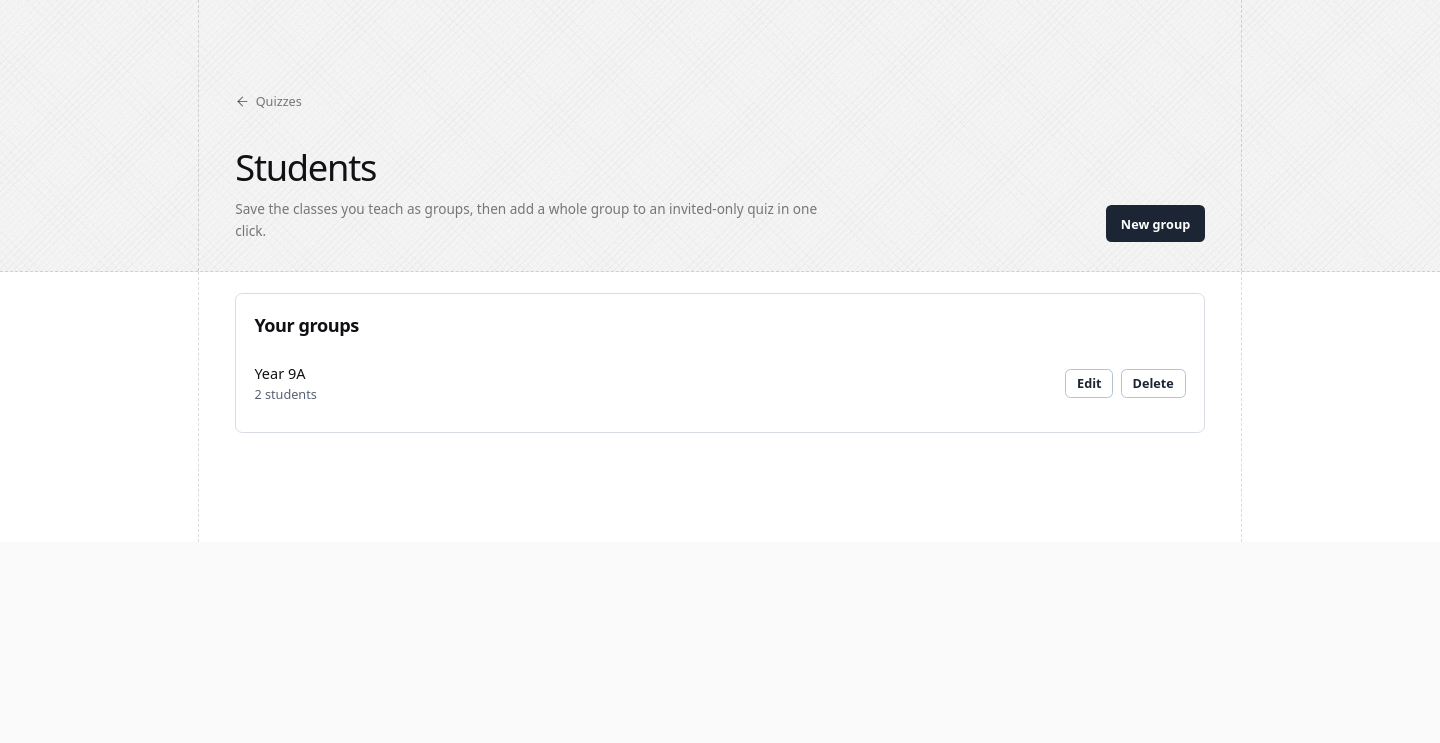
Scenario: GroupsPage › shows the server message when the name is taken
Click the button "New group". click: x=1156, y=224
box: [1106, 206, 1205, 242]
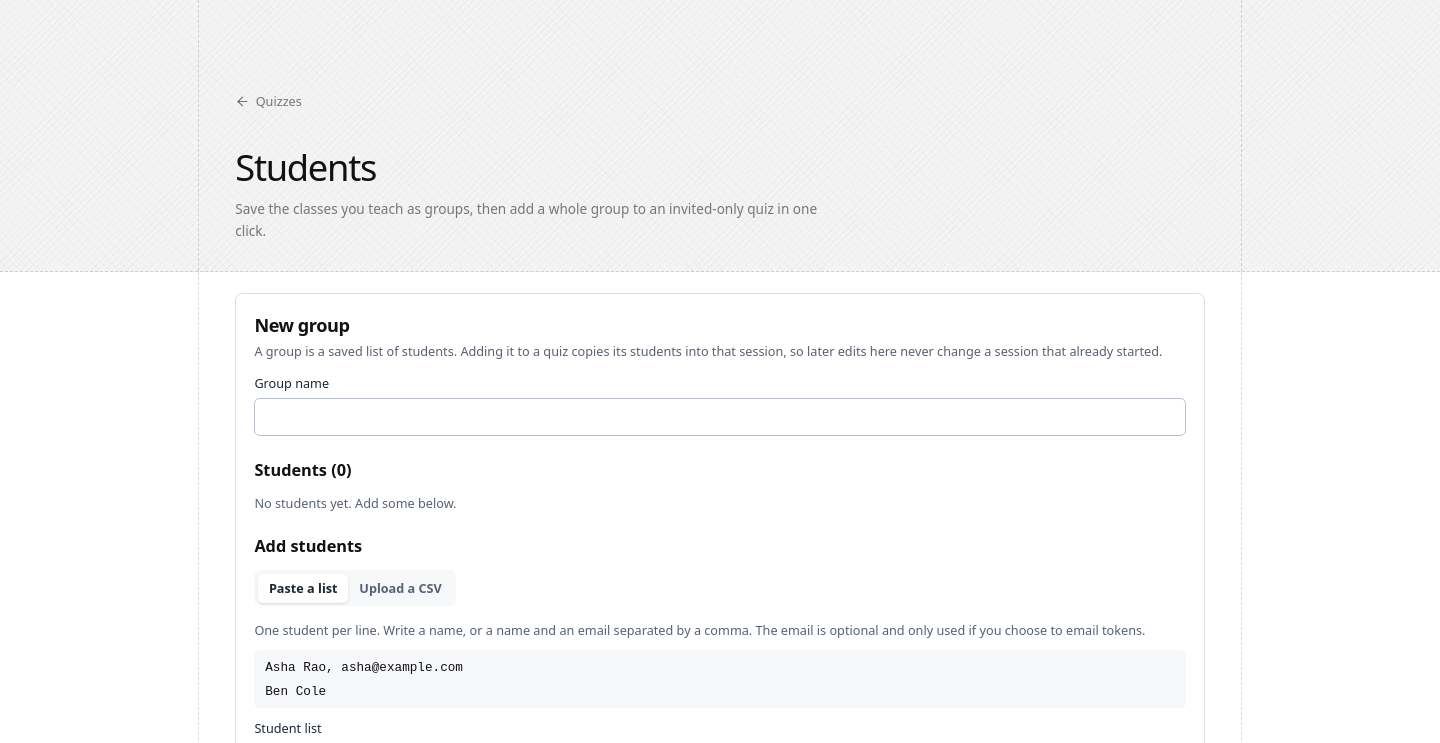
Type "Year 9A" into the field labelled "Group name". click: x=720, y=417
box: [254, 398, 1186, 436]
(page scrolled)
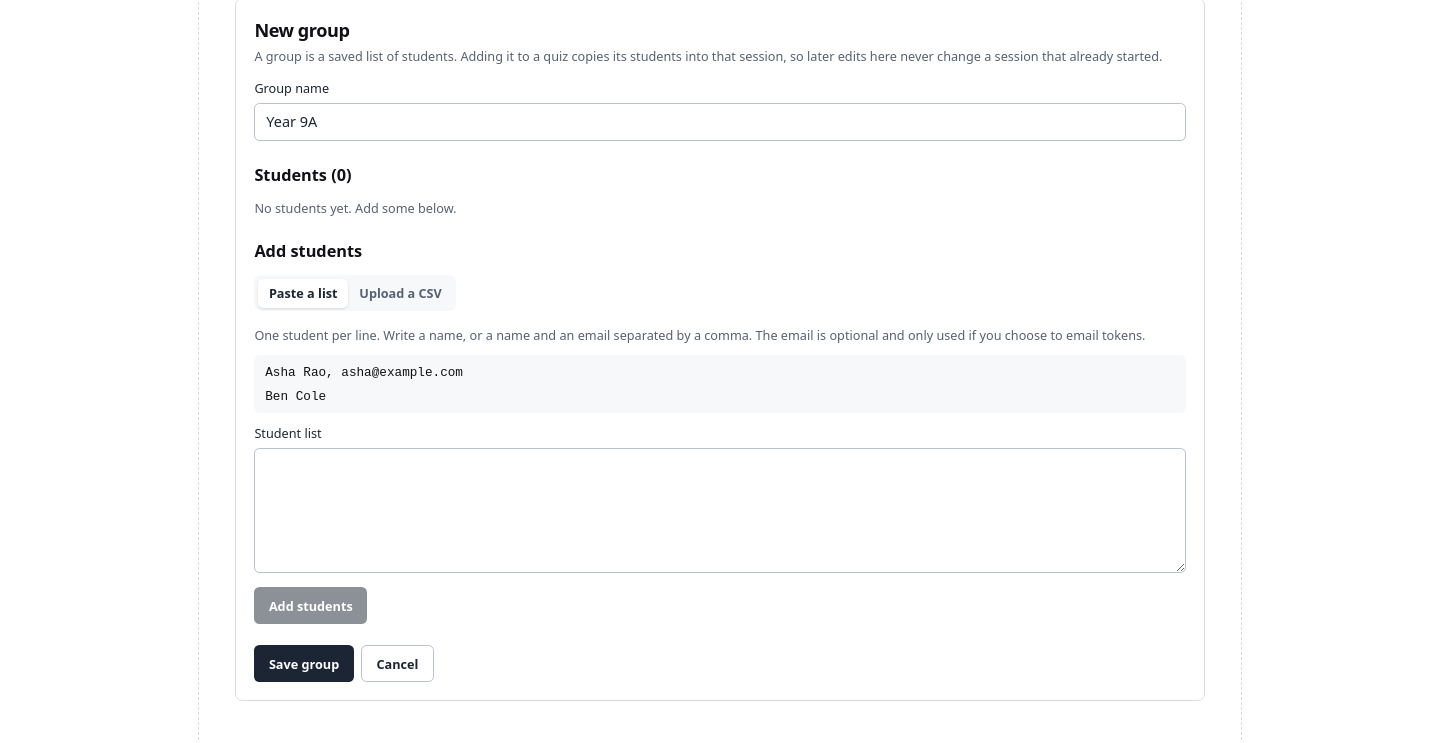
Click the button "Save group". click: x=304, y=664
box: [254, 646, 354, 682]
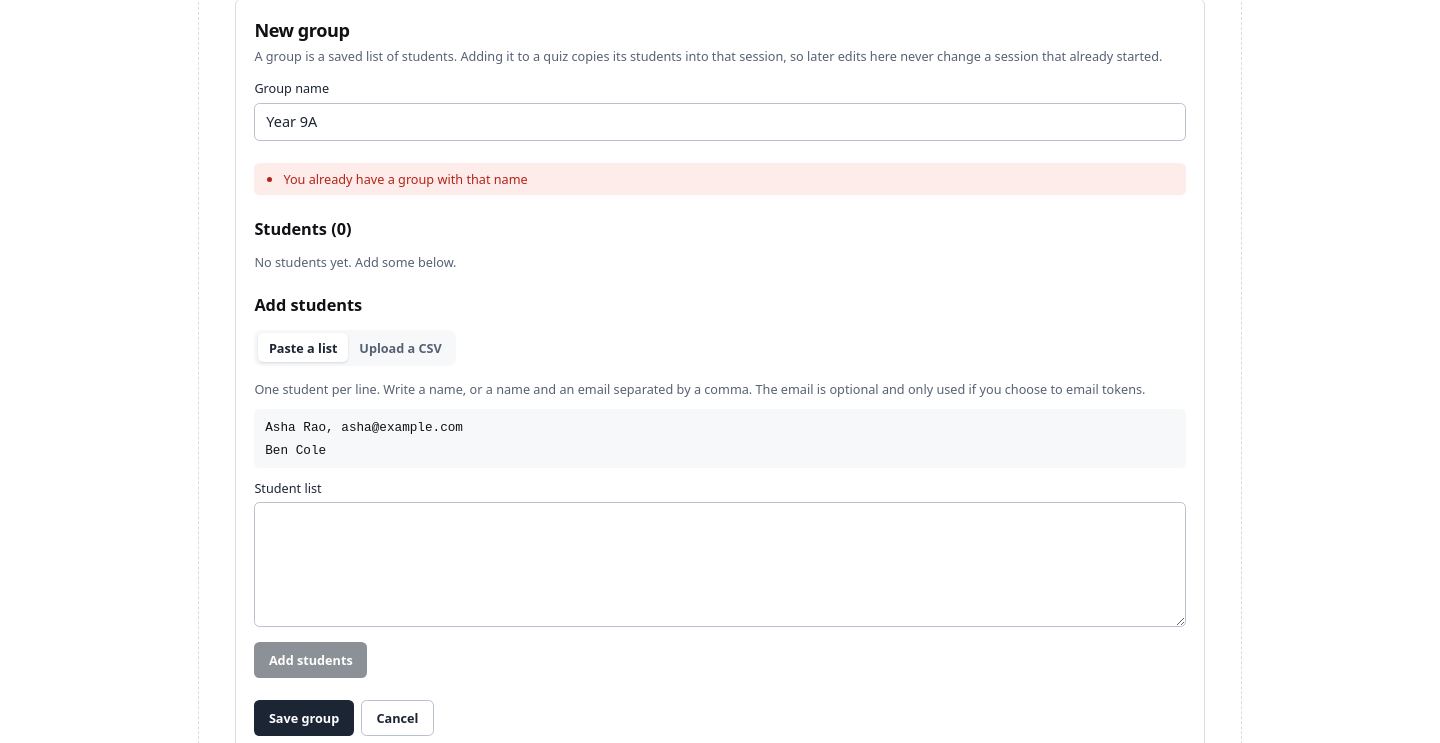
Result: the list item "You already have a group with that name" is shown at [283, 170, 528, 188]
